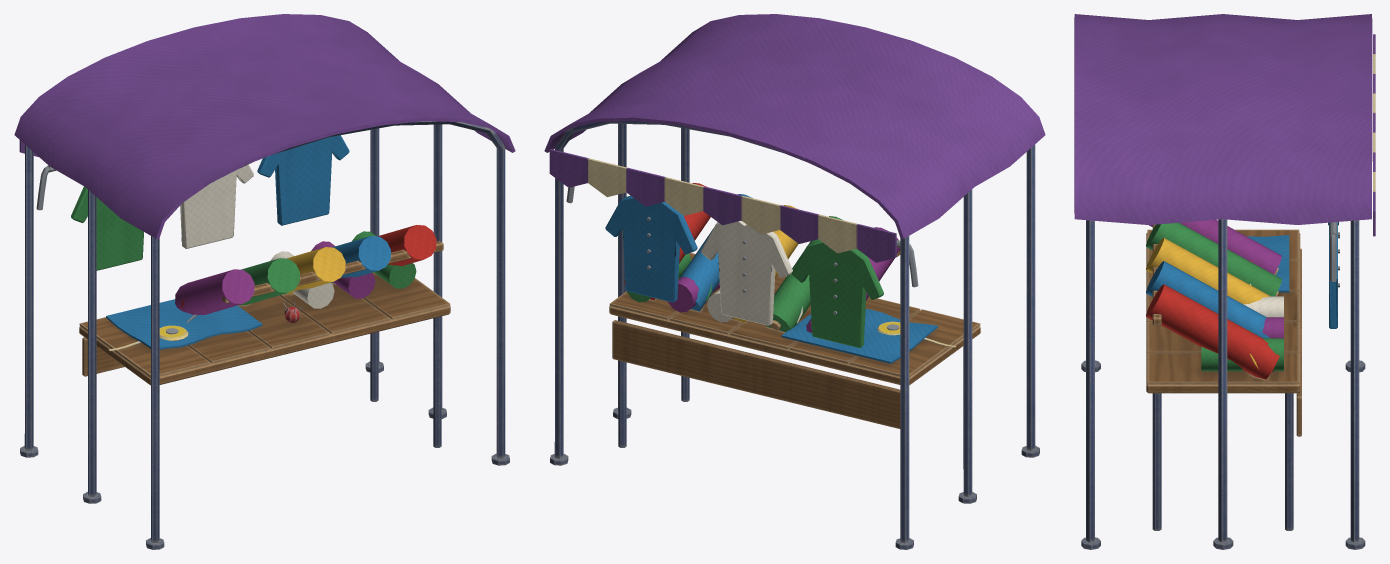
Rendered from puesto_telas.fbx.
3 views of the same model, side by side, from view 1: azimuth 30°, elevation 25°; view 2: azimuth 150°, elevation 25°; view 3: azimuth 270°, elevation 25° (orthographic). The views are drawn at different scales.
Parts seen in each view (by area): view 1: puesto_telas; view 2: puesto_telas; view 3: puesto_telas.
Boxes of the visible parts, box(x1,y1,x2,y2) form: puesto_telas: box(14, 14, 515, 549); puesto_telas: box(544, 14, 1045, 549); puesto_telas: box(1074, 14, 1375, 549).
Bounding box in the file's own units: 3.98 × 3.98 × 2.73.
1 material, 1 textured.
